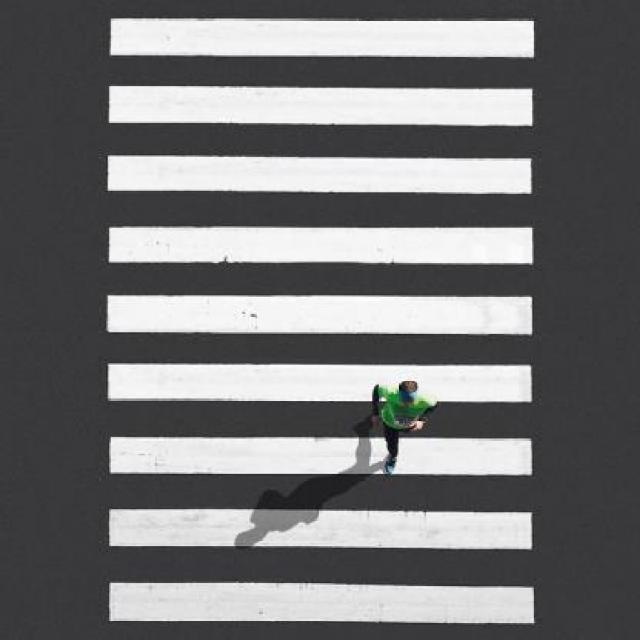Pedestrian crosswalk: (74, 0, 562, 638)
